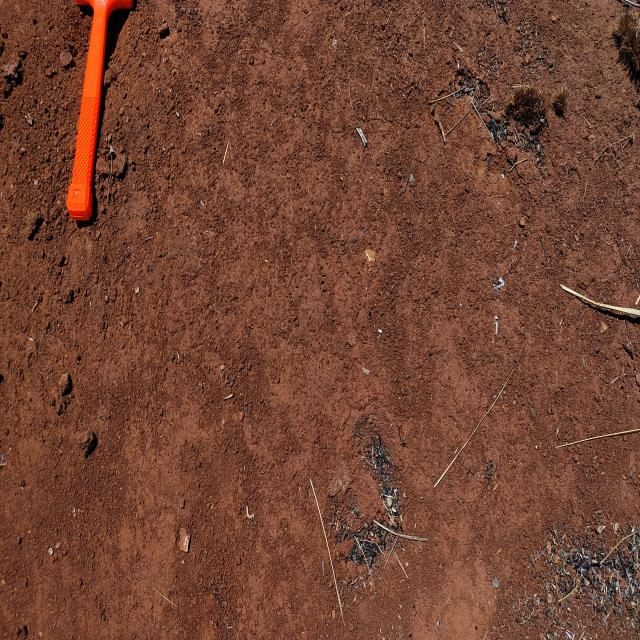Orange_hammer: (65, 0, 136, 222)
